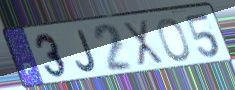2: (93, 22, 137, 75)
3: (33, 31, 71, 81)
5: (184, 11, 222, 59)
J: (74, 28, 98, 74)
O: (156, 17, 192, 64)
X: (121, 18, 167, 68)
